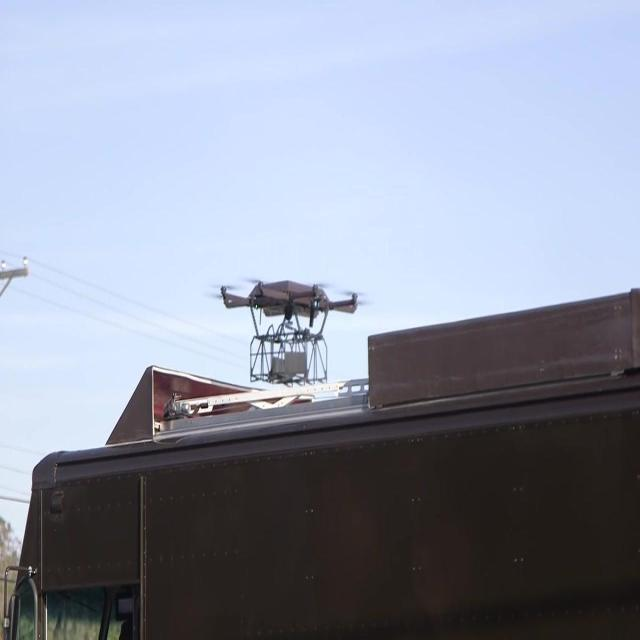drone: (216, 274, 365, 392)
